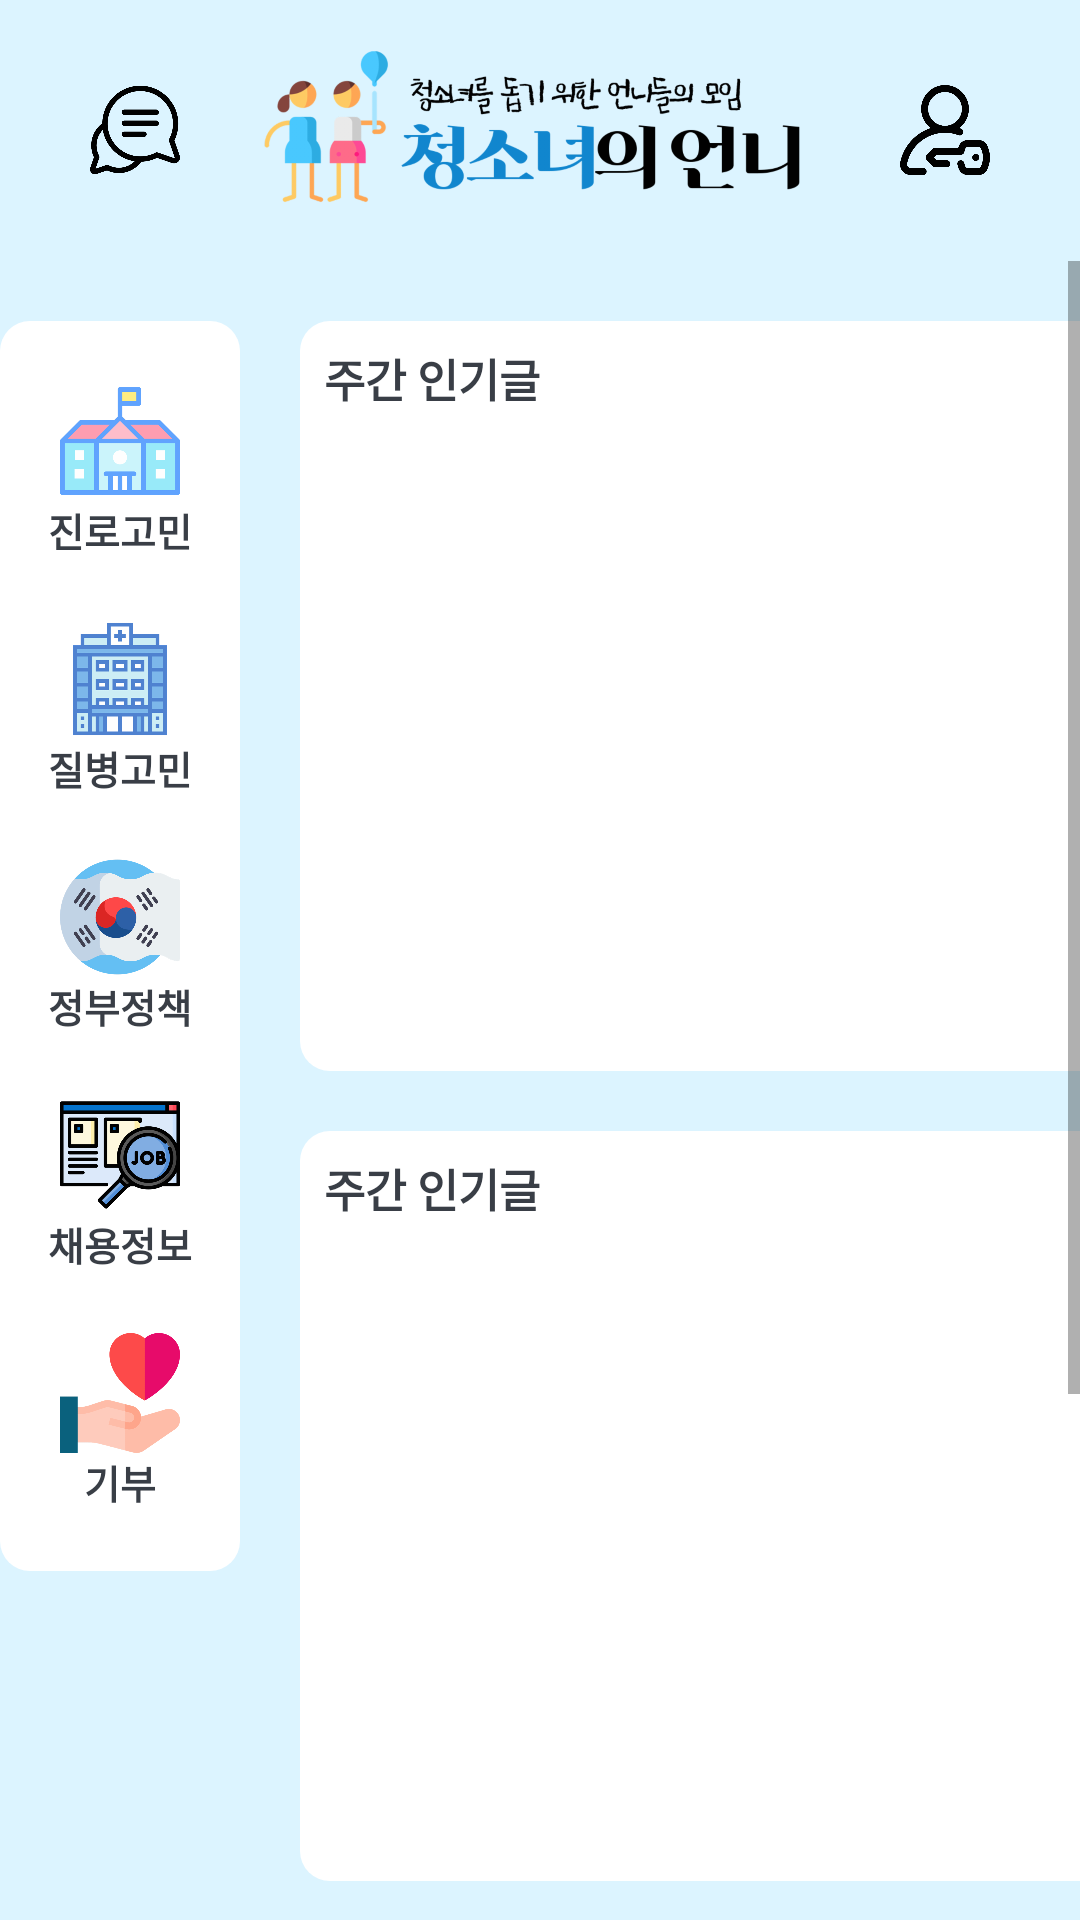

Where icons sit on this 1080px×1920px app screen, as [x1,y1,x2,y2]:
chat: [90,86,180,174]
hospital: [73,623,167,735]
loign: [900,85,990,175]
school: [60,387,180,495]
